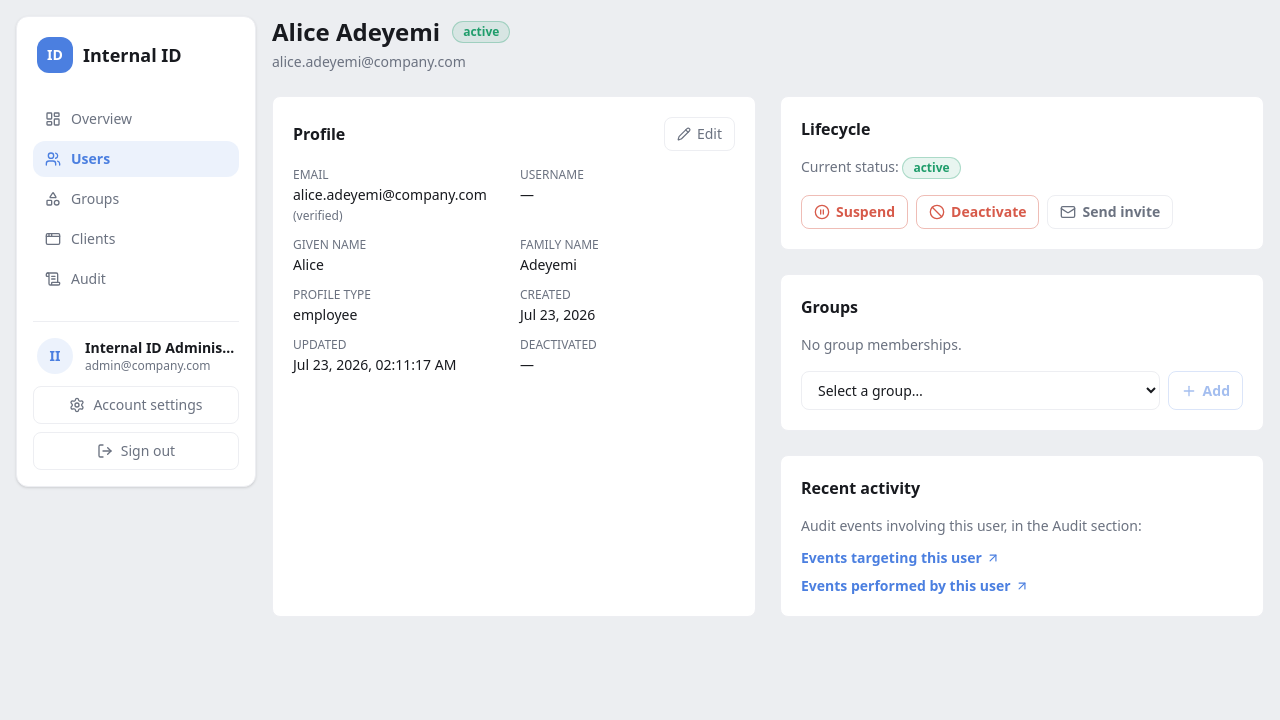
Scenario: editing the profile updates the detail view
This screenshot has width=1280, height=720.
Expected: the heading "Alice Adeyemi" is shown, x1=272 y1=16 x2=440 y2=48
Click the button "Edit" at (699, 134), box x1=664 y1=117 x2=735 y2=151
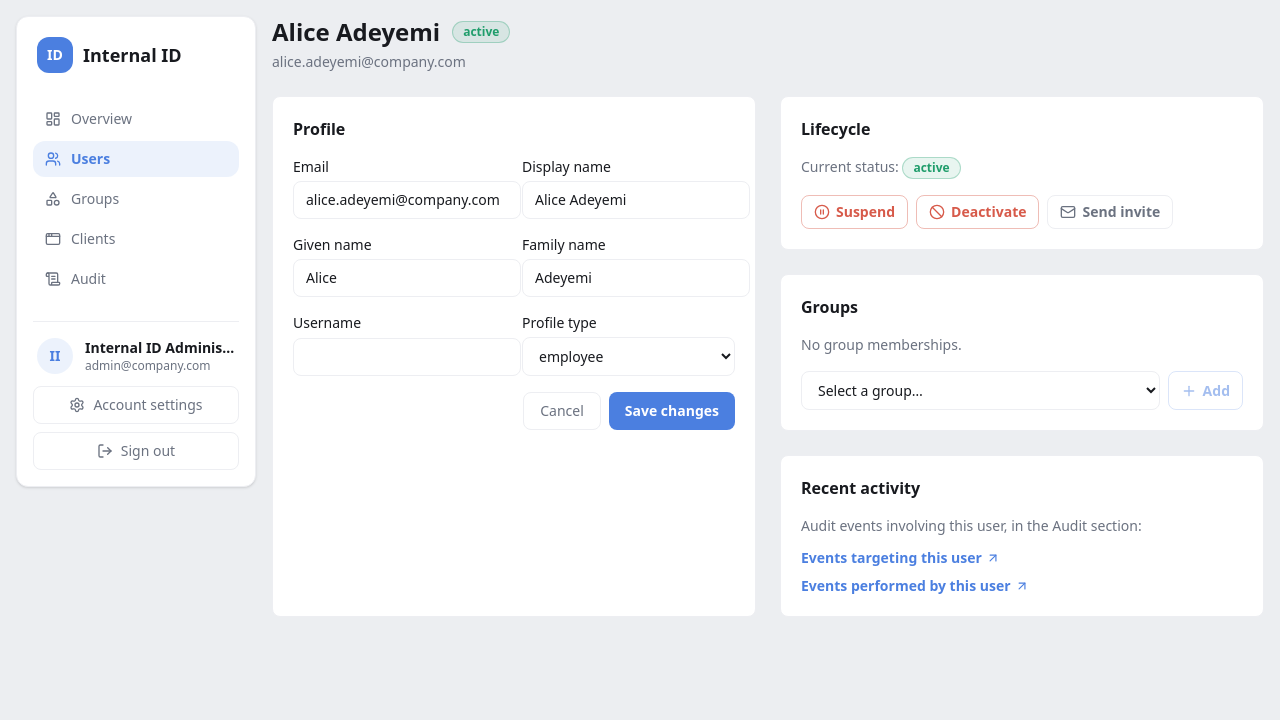
Replace the text in the field labelled "Display name" with "Alice A. Renamed" at (636, 200), box x1=522 y1=181 x2=750 y2=219
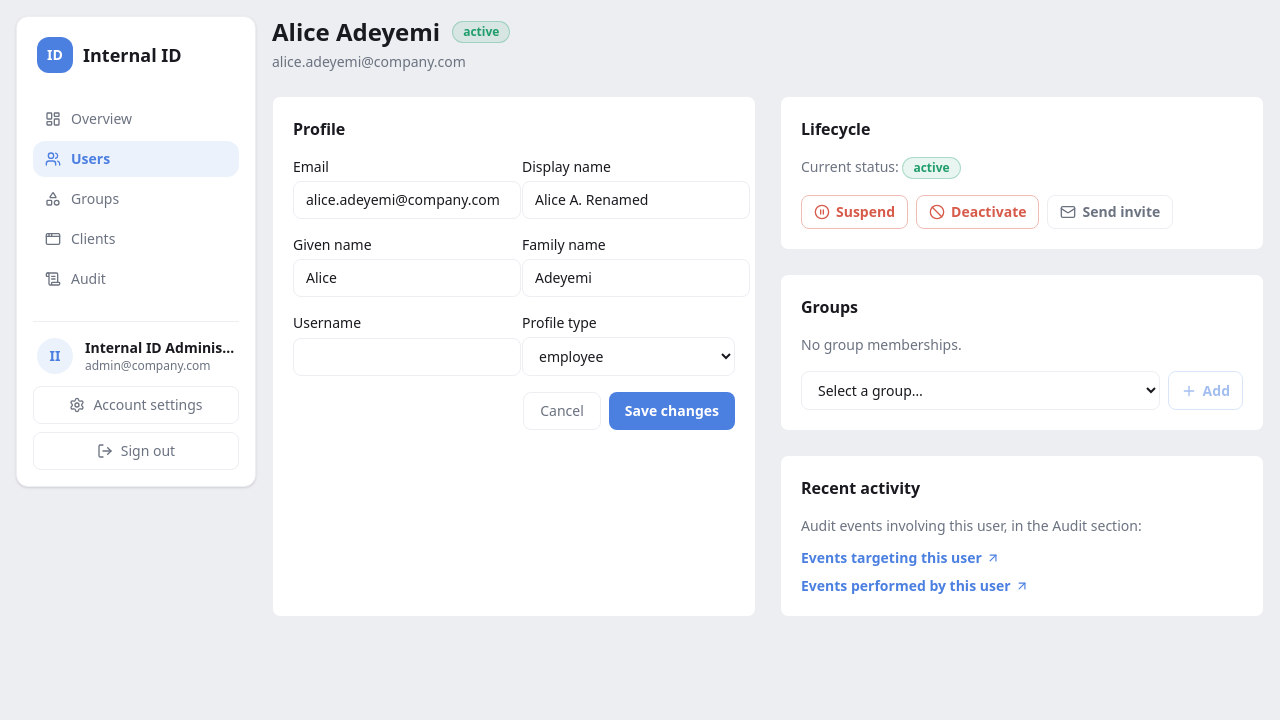
Click the button "Save changes" at (672, 411), box x1=609 y1=392 x2=735 y2=430
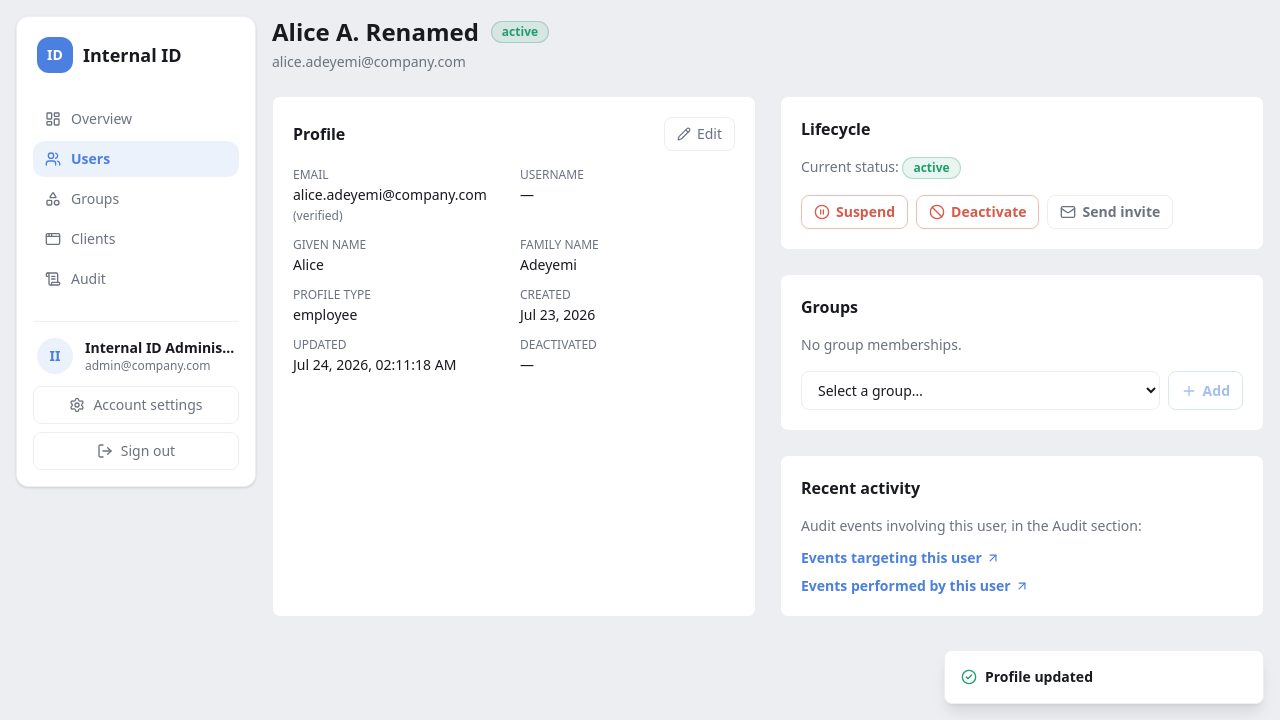
Expected: the heading "Alice A. Renamed" is shown, x1=272 y1=16 x2=479 y2=48
